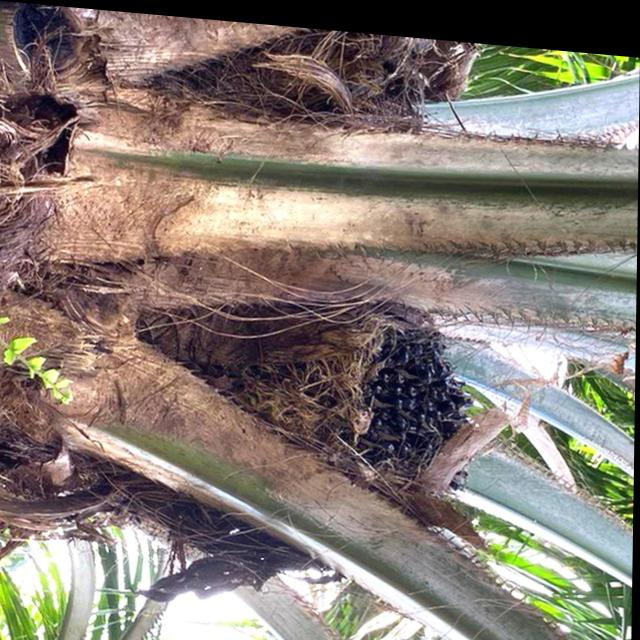unripe: (265, 285, 481, 494)
